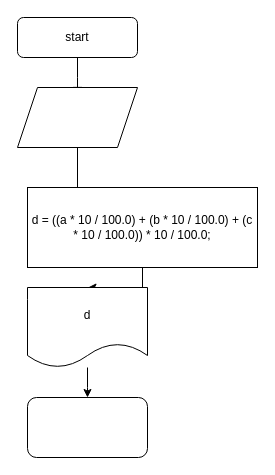
Image size: 275x475. Some labels were removed from this diagram. Here are the shapes that lost their labels. From the top down, the box of each, then its label:
(16, 86, 138, 148): a = 123456; b = 234567; c = 345678;
(26, 396, 148, 458): end
